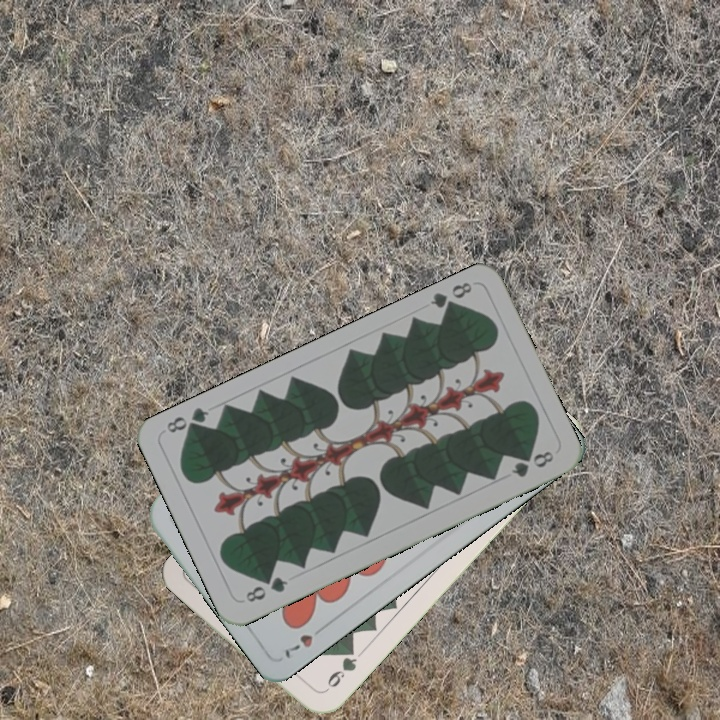G8: (426, 277, 475, 316), (241, 572, 291, 605)
G9: (319, 643, 360, 696)
H7: (280, 630, 316, 661)
